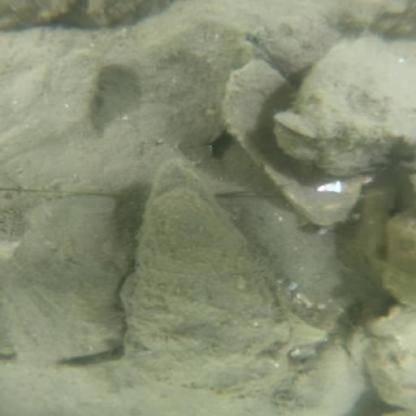Oyster- Indeterminate: (126, 185, 285, 385), (279, 37, 412, 177)
Oyster-Closed: (0, 195, 128, 359), (151, 0, 330, 65), (273, 342, 359, 408), (355, 311, 414, 406), (379, 208, 416, 307), (80, 0, 154, 28), (8, 1, 69, 29)
